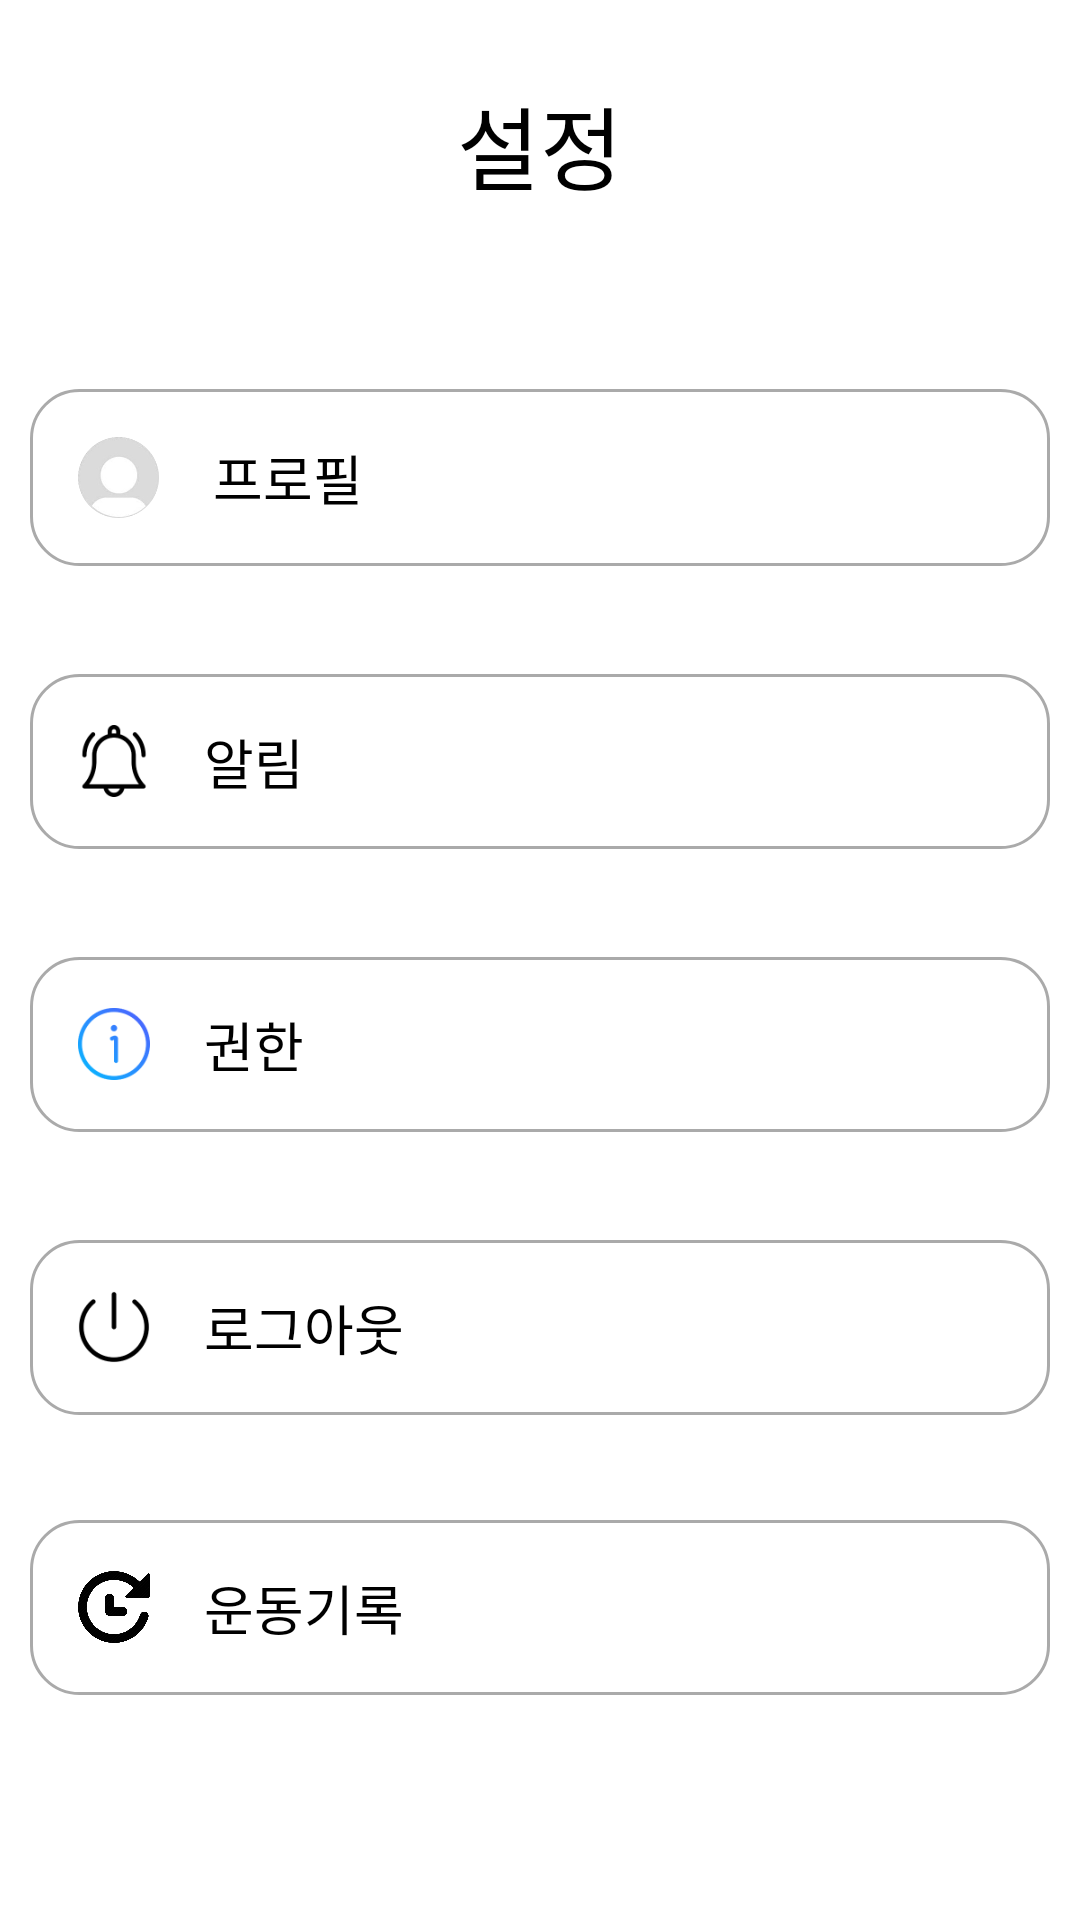

Locate icon controls on the screen. Image size 1080px×1920px, boxes as bbox(x1, y1, x2, y2).
history: bbox(78, 1571, 150, 1643)
info: bbox(78, 1008, 150, 1080)
notification: bbox(82, 725, 146, 797)
user: bbox(78, 437, 159, 518)
